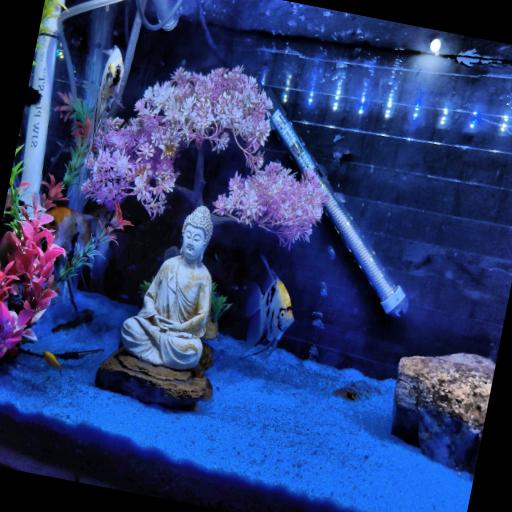Fish: (83, 46, 123, 158), (245, 259, 293, 350), (83, 47, 123, 150), (42, 351, 60, 373)
